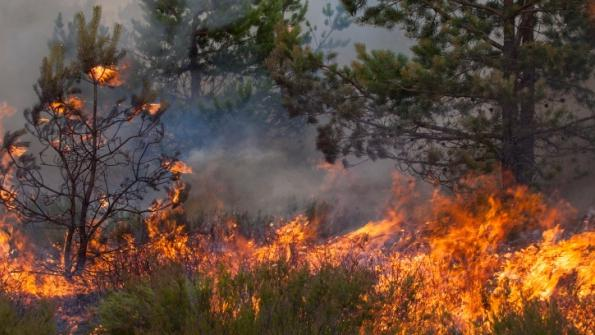fire: (1, 133, 592, 332)
